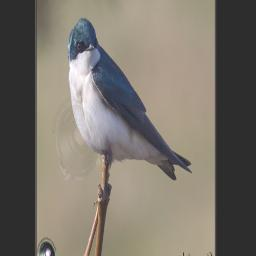Swallow: (67, 17, 193, 181)
